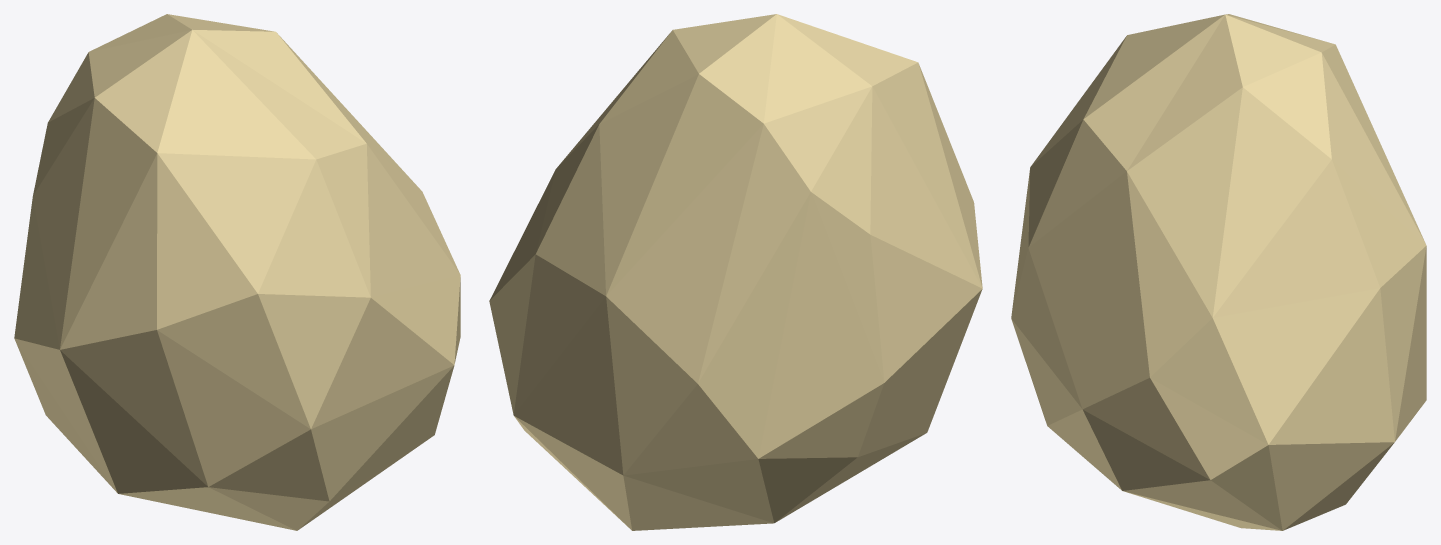
Rendered from Rock (67).fbx.
3 views of the same model, side by side, from view 1: azimuth 30°, elevation 25°; view 2: azimuth 150°, elevation 25°; view 3: azimuth 270°, elevation 25° (orthographic). The views are drawn at different scales.
Parts seen in each view (by area): view 1: Asteroid66; view 2: Asteroid66; view 3: Asteroid66.
Part boxes in pixels (x1,y1,x2,y2): Asteroid66: [14, 14, 460, 530]; Asteroid66: [489, 14, 982, 530]; Asteroid66: [1011, 14, 1426, 530].
Bounding box in the file's own units: 49.56 × 55.79 × 44.04.
